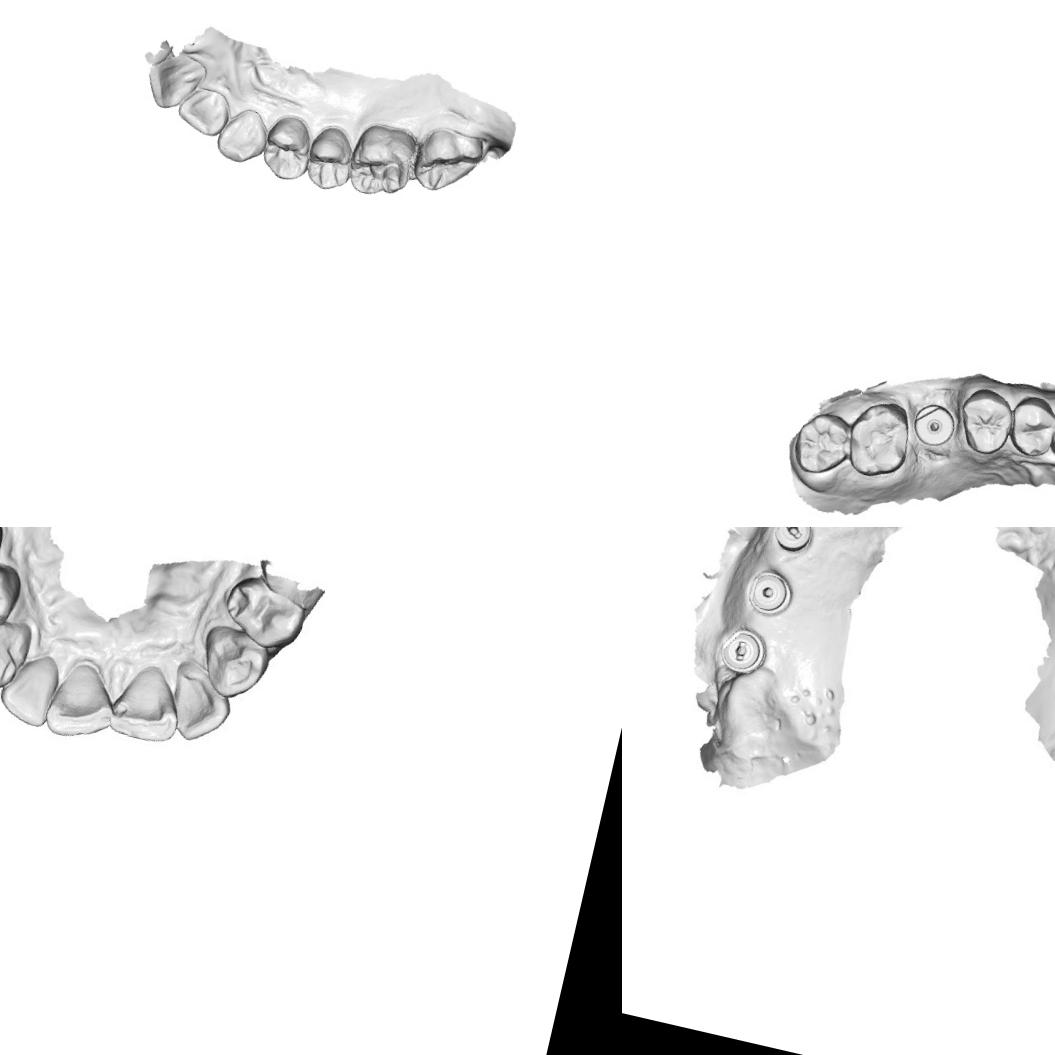canine: (192, 622, 276, 708), (211, 101, 272, 170), (0, 609, 37, 697)
implant: (744, 566, 796, 618), (910, 400, 960, 451)
implant_minus: (714, 622, 771, 682), (769, 527, 820, 559)
incisor: (103, 655, 189, 750), (39, 654, 124, 748), (159, 657, 240, 750), (0, 646, 66, 732), (140, 45, 212, 118), (171, 82, 234, 141)
molar: (842, 392, 918, 484), (341, 118, 420, 204), (408, 120, 488, 202), (787, 404, 857, 482)
premolar: (216, 572, 313, 657), (953, 383, 1020, 460), (298, 119, 360, 196), (256, 108, 318, 185), (1004, 391, 1055, 462), (0, 551, 24, 634)
